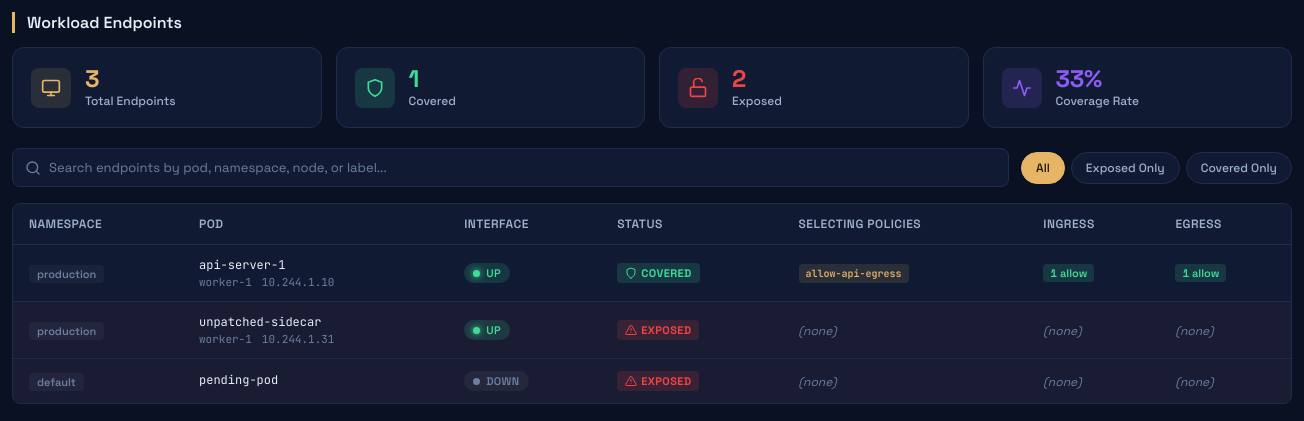
WorkloadEndpointsPanel › searches by pod name
Type "api-server" into the field with placeholder "Search endpoints by pod, namespace, node, or label..." at (523, 168), box 49,149 -> 996,186
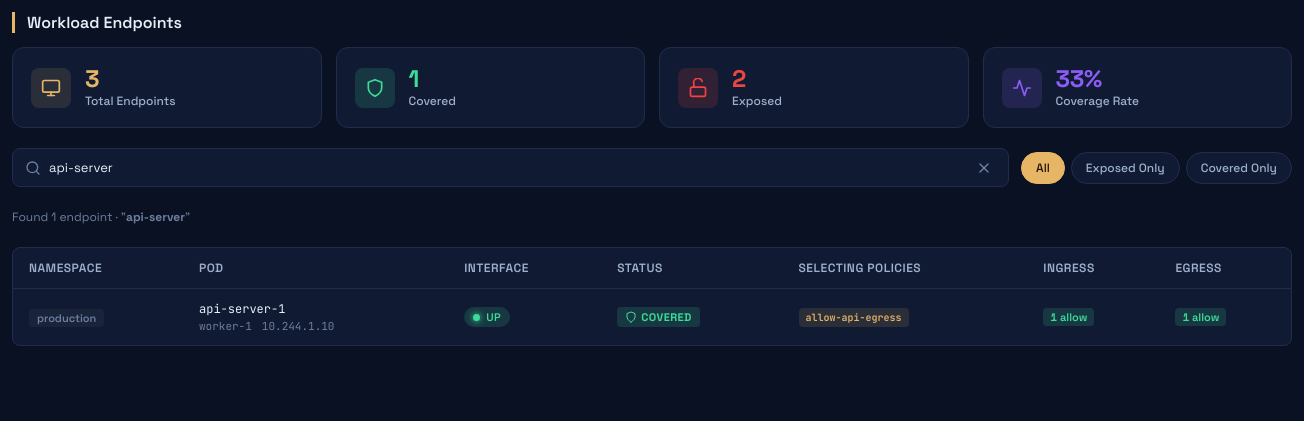
Expected: the text "api-server-1" is shown, 199,301 -> 285,317
Expected: the text "unpatched-sidecar" is gone
